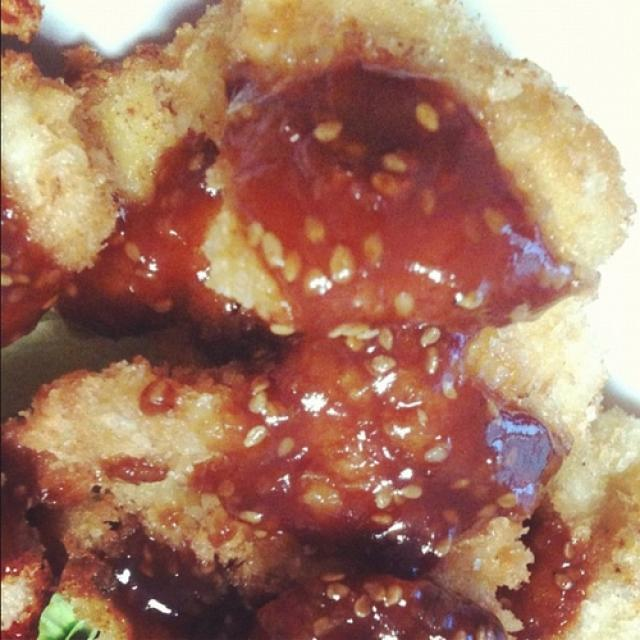鸡肉料理 含炸鸡: (0, 3, 621, 613)
